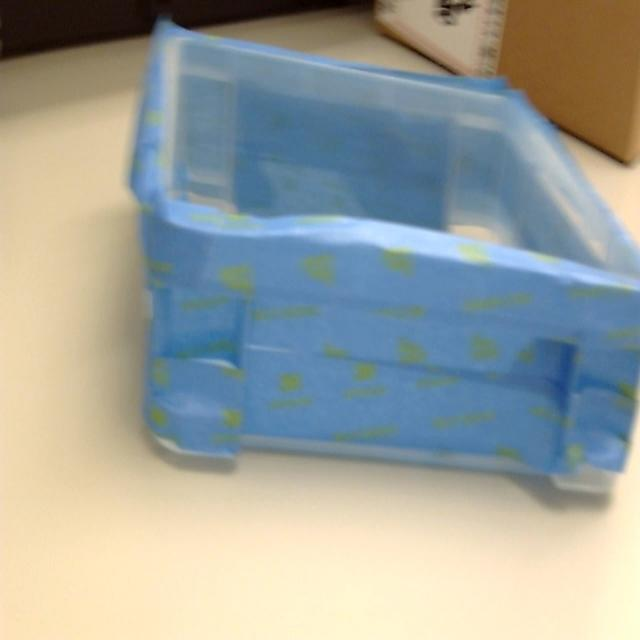bucket: (125, 18, 640, 503)
